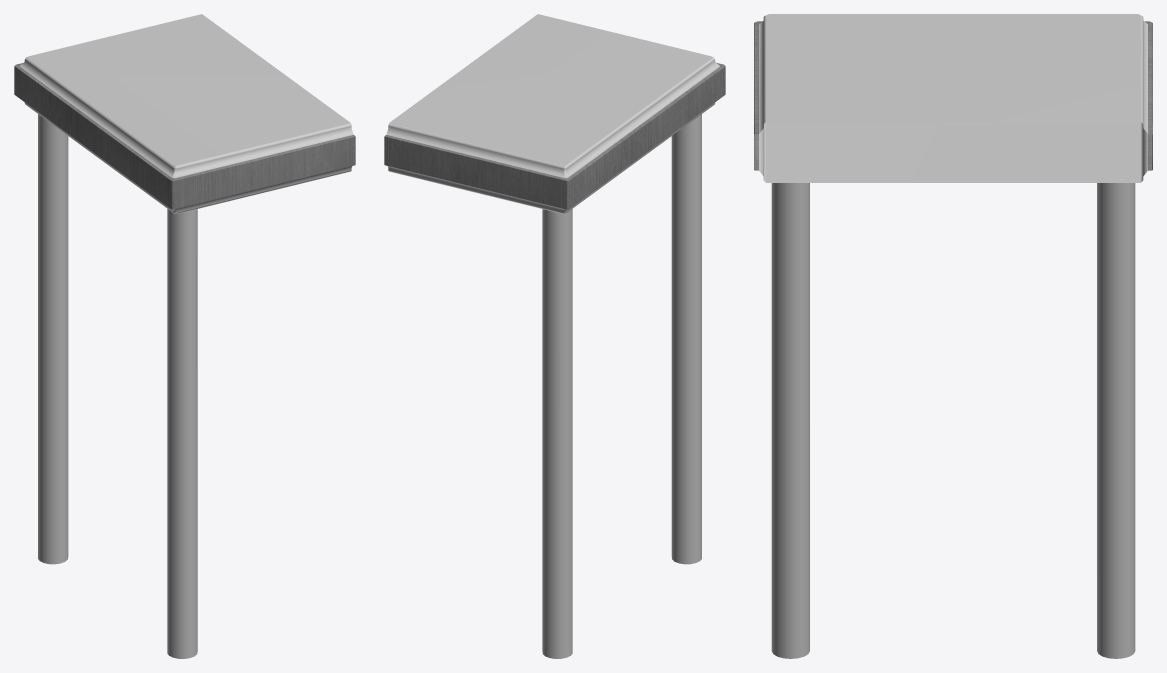
The model's file is SM_Canopy_01.fbx.
3 views of the same model, side by side, from view 1: azimuth 30°, elevation 25°; view 2: azimuth 150°, elevation 25°; view 3: azimuth 270°, elevation 25° (orthographic). The views are drawn at different scales.
Visible parts, largest first — view 1: SM_Canopy_01_LOD0; view 2: SM_Canopy_01_LOD0; view 3: SM_Canopy_01_LOD0.
Boxes of the visible parts, bbox=[...] form: SM_Canopy_01_LOD0: bbox=[14, 14, 355, 658]; SM_Canopy_01_LOD0: bbox=[384, 14, 725, 658]; SM_Canopy_01_LOD0: bbox=[754, 14, 1152, 658].
Bounding box in the file's own units: 98.48 × 147 × 255.
